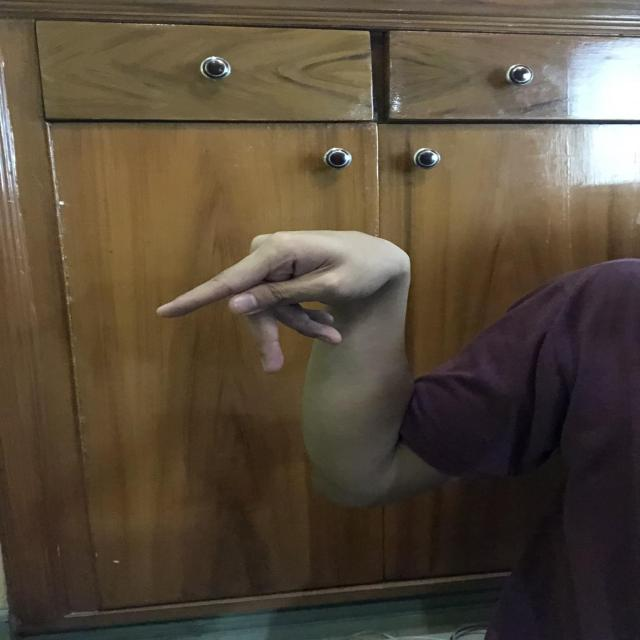P: (150, 225, 416, 376)
